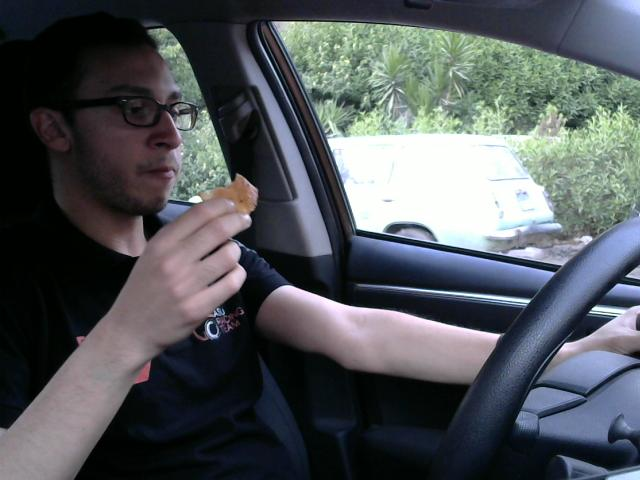Eating: (196, 165, 261, 226)
